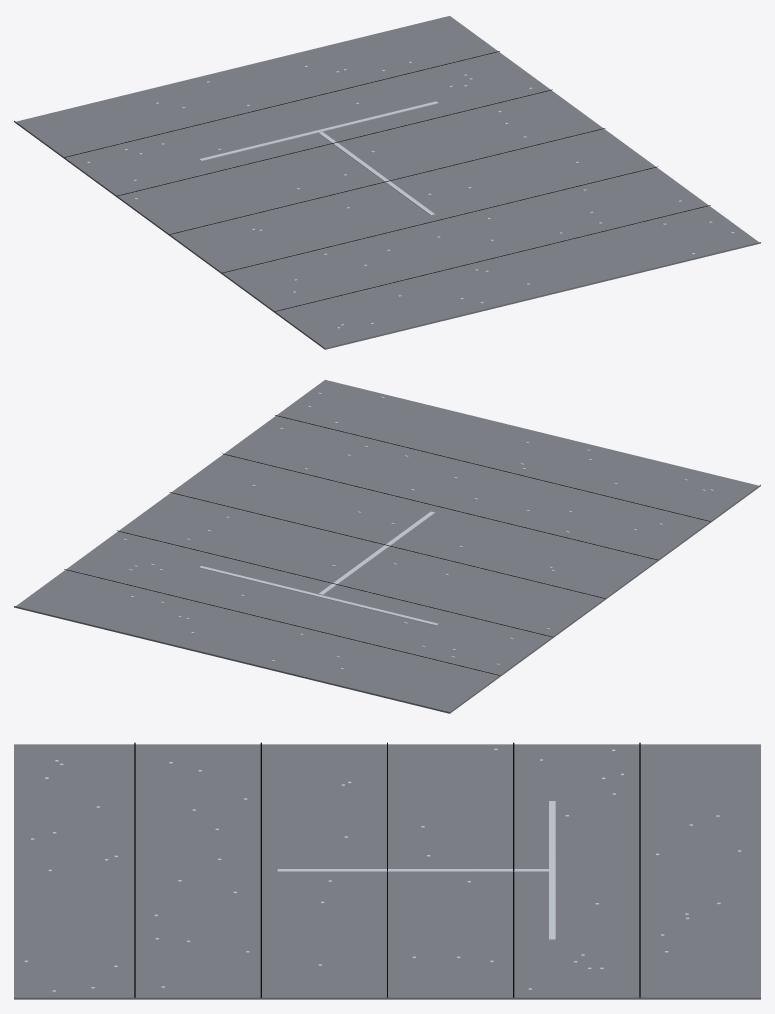
Rendered from v4_rally_floor.glb.
3 renders of one model, top to bottom at view 1: azimuth 30°, elevation 25°; view 2: azimuth 150°, elevation 25°; view 3: azimuth 270°, elevation 25°, orthographic. The views are drawn at different scales.
Visible parts, largest first — view 1: Terrazzo, Joint_Lines, Service_Box; view 2: Terrazzo, Joint_Lines, Service_Box; view 3: Terrazzo, Joint_Lines, Service_Box, Terrazzo_Chips.
Part boxes in pixels (x1=…): Terrazzo: x1=14, y1=16, x2=760, y2=349; Joint_Lines: x1=64, y1=51, x2=710, y2=311; Service_Box: x1=198, y1=101, x2=438, y2=215; Terrazzo: x1=14, y1=380, x2=760, y2=713; Joint_Lines: x1=64, y1=415, x2=710, y2=675; Service_Box: x1=198, y1=511, x2=438, y2=625; Terrazzo: x1=14, y1=744, x2=760, y2=999; Joint_Lines: x1=134, y1=742, x2=640, y2=997; Service_Box: x1=277, y1=801, x2=555, y2=940; Terrazzo_Chips: x1=24, y1=748, x2=741, y2=992.
Size of what is drawn, in the model's own units: 5.5 by 0.022 by 6.8.
3 materials, 2 textured.
